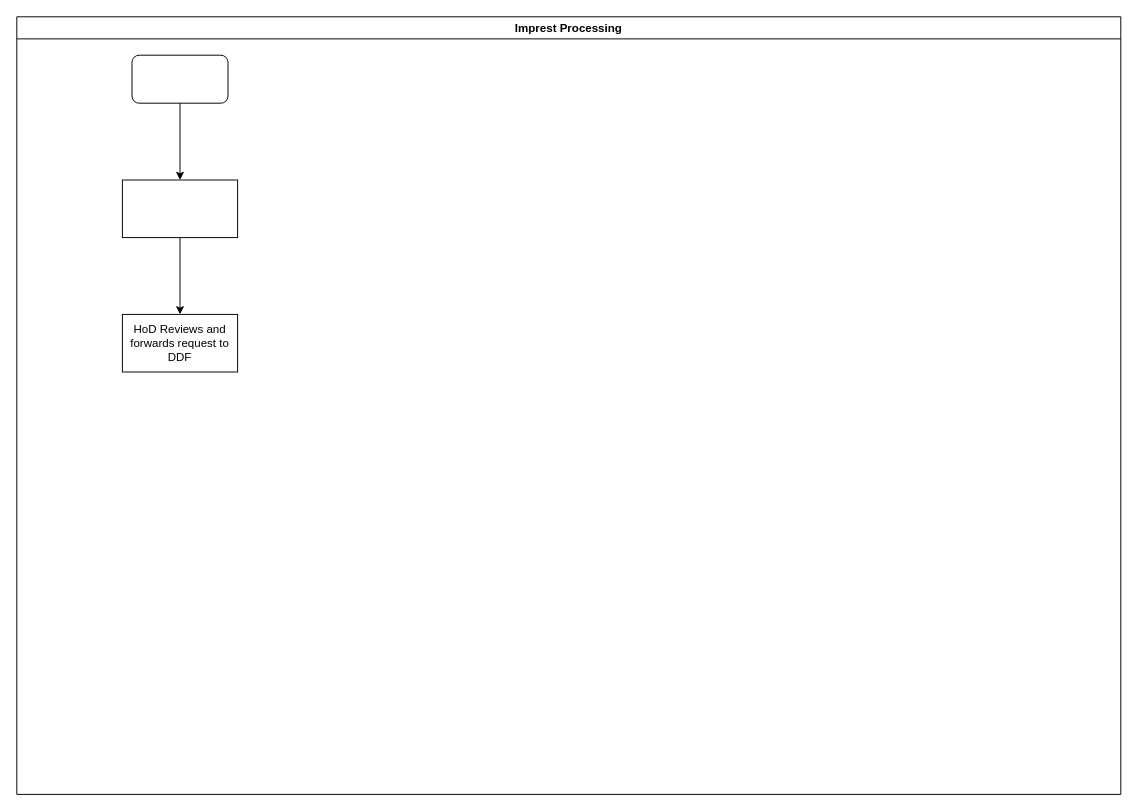
This 1138x811 diagram has some shape labels left out. The shapes that lost their labels are listed below. From the top down, each one's centre as x and y in pixels, then its label:
point (179, 78): Start
point (179, 208): Duly filled application for imprest is submitted by an officer
